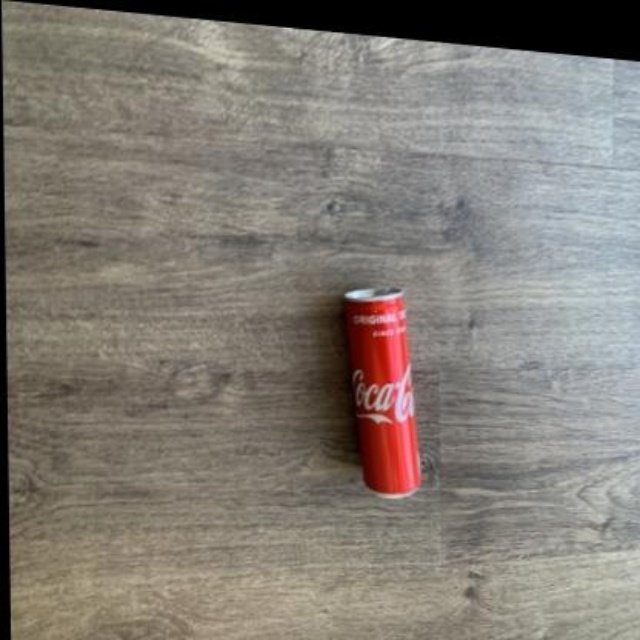trash: (345, 288, 418, 495)
